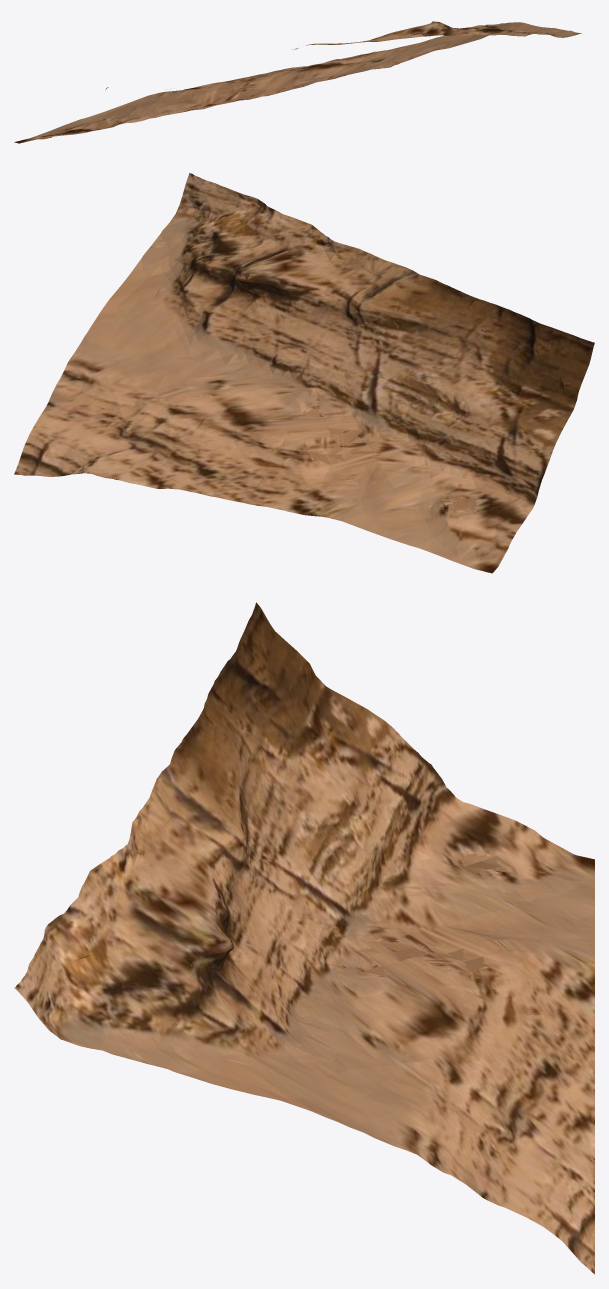
The picture shows the model from 3 angles, top to bottom: view 1: azimuth 30°, elevation 25°; view 2: azimuth 150°, elevation 25°; view 3: azimuth 270°, elevation 25°; orthographic projection. The views are drawn at different scales.
Size of the model in its own units: 1.04 by 0.362 by 0.6646.
Materials: 2 (2 with a texture image).
